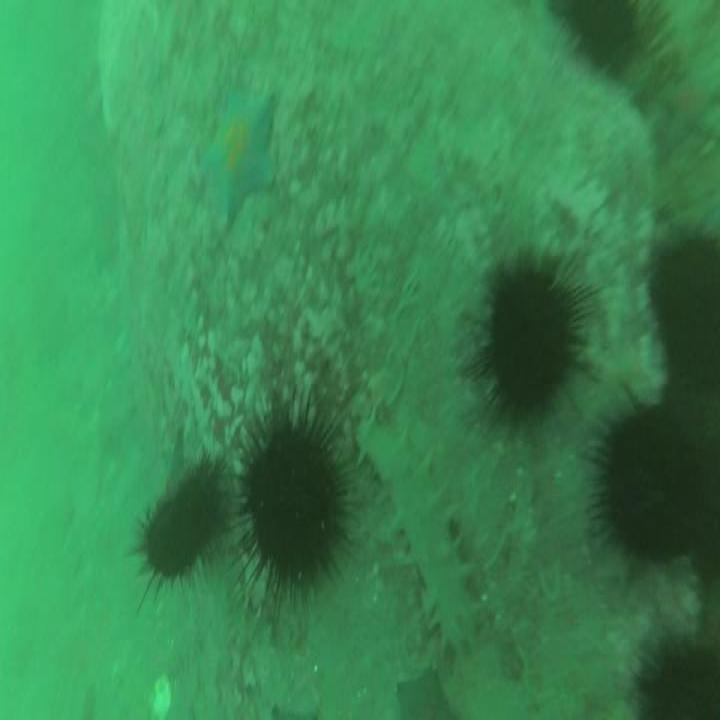echinus: (234, 397, 350, 628), (465, 245, 596, 439), (588, 388, 708, 579), (640, 219, 720, 409), (129, 461, 219, 620), (544, 0, 643, 85), (633, 631, 720, 720)
holothurian: (347, 393, 486, 668)
starfish: (201, 84, 280, 229)
